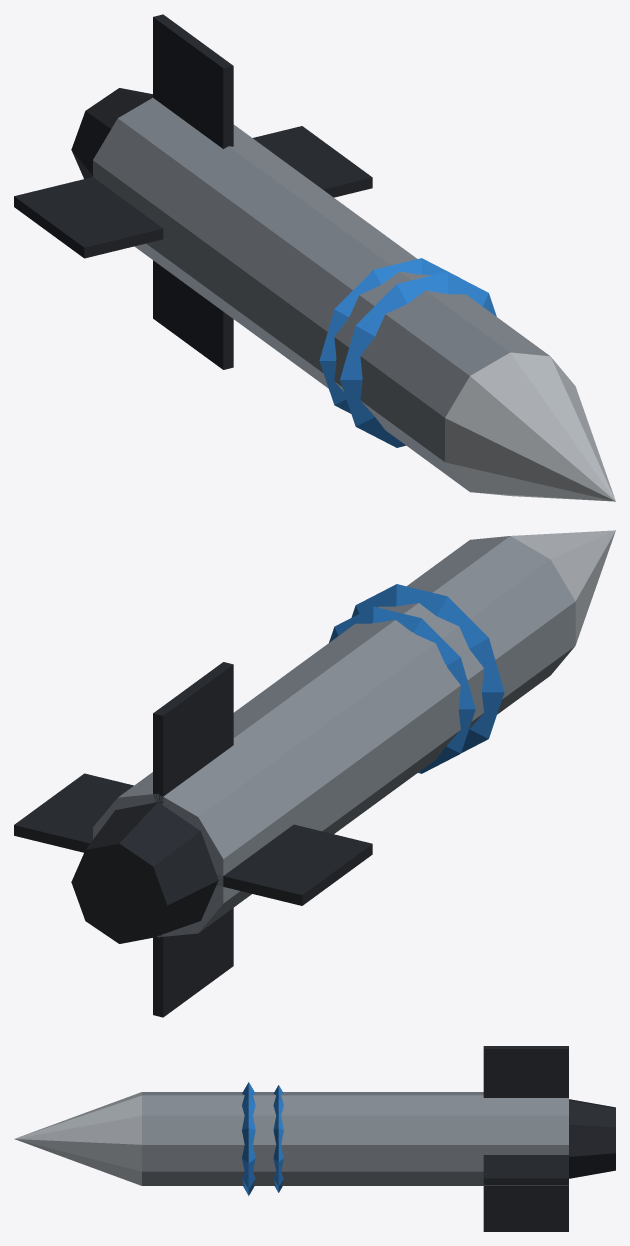
The model's file is missile-ion.glb.
3 views of the same model, one above another, from view 1: azimuth 30°, elevation 25°; view 2: azimuth 150°, elevation 25°; view 3: azimuth 270°, elevation 25° (orthographic). The views are drawn at different scales.
Parts seen in each view (by area): view 1: m; view 2: m; view 3: m.
Boxes of the visible parts, <box> form: m: <box>14,14,615,501</box>; m: <box>14,530,615,1017</box>; m: <box>14,1046,615,1231</box>.
Size of the model in its own units: 0.067 by 0.067 by 0.2.
